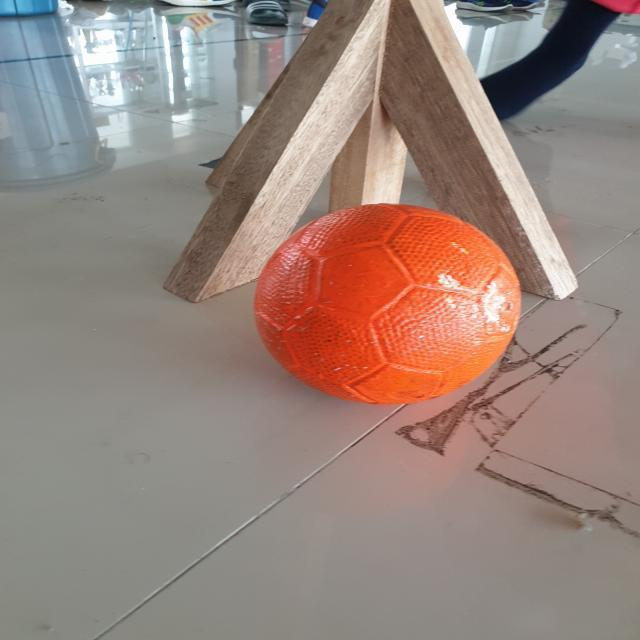bola: (247, 196, 528, 411)
